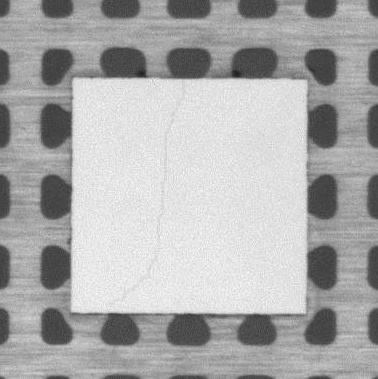DIE_CRACK: (111, 82, 183, 306)
